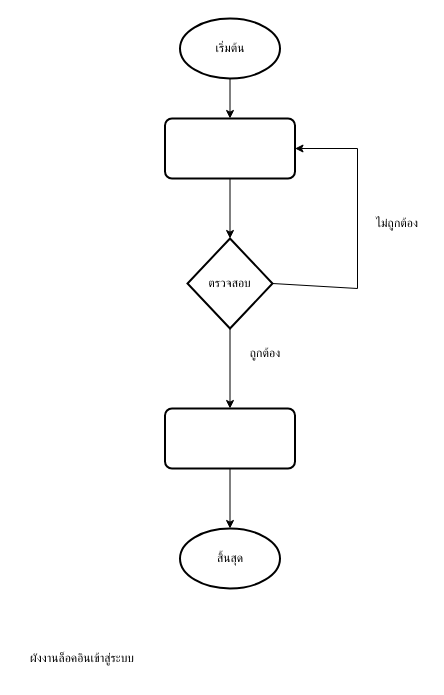
The diagram is 444 pixels wide and 695 high, and some of its shapes have lost their labels. The shapes that lost their labels are listed below. From the top down, each one's box as (x1, y1, x2, y2) in pixels, then its label:
(164, 117, 296, 179): กรอกชื่อผู้ใช้และรหัสผ่าน
(164, 407, 296, 469): เข้าสู่ระบบสำเร็จ
